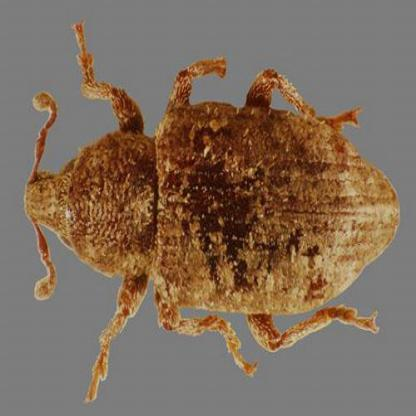rice-bug: (28, 73, 404, 309)
